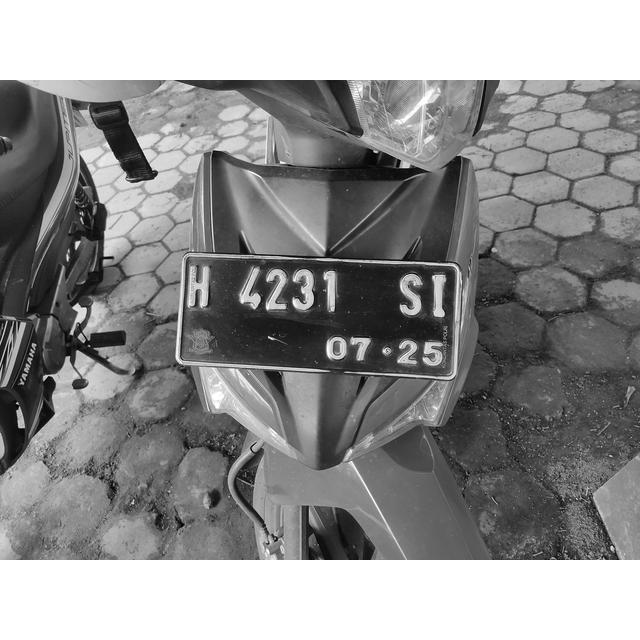license: (186, 260, 452, 373)
